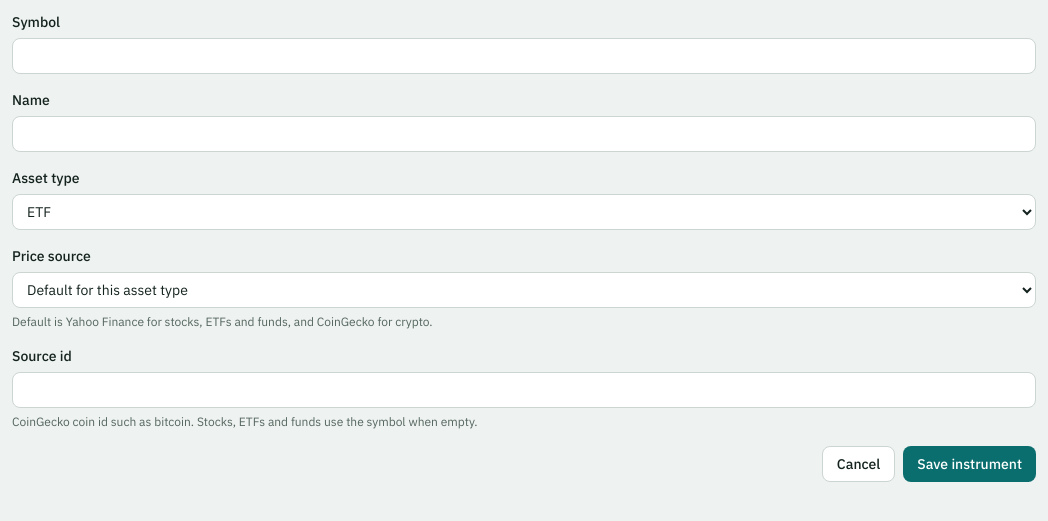
Test: InstrumentForm › requires a symbol
Step 1. Click the button "Save instrument" → {"x": 970, "y": 464}, box [903,446,1036,482]
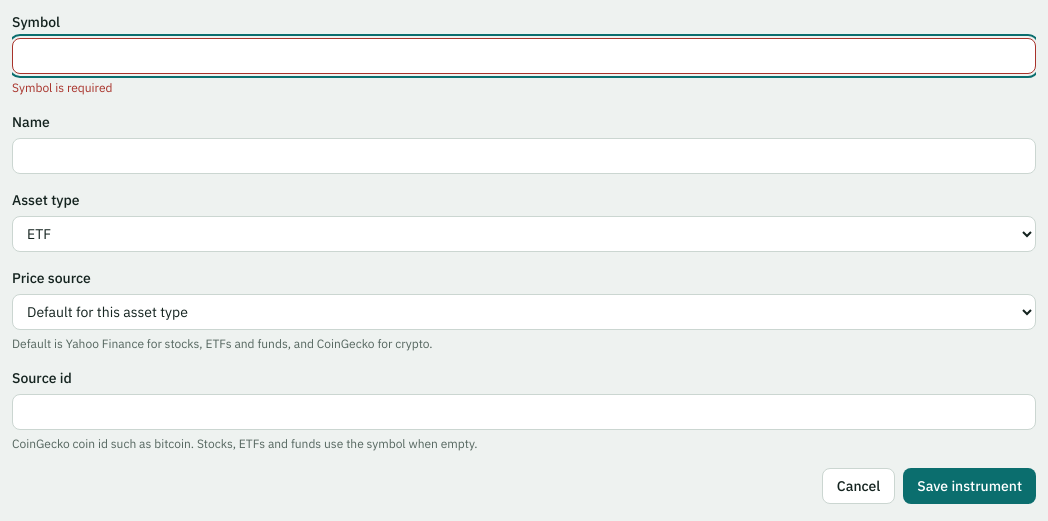
Check: the text "Symbol is required" is shown, box [12,80,112,95]
